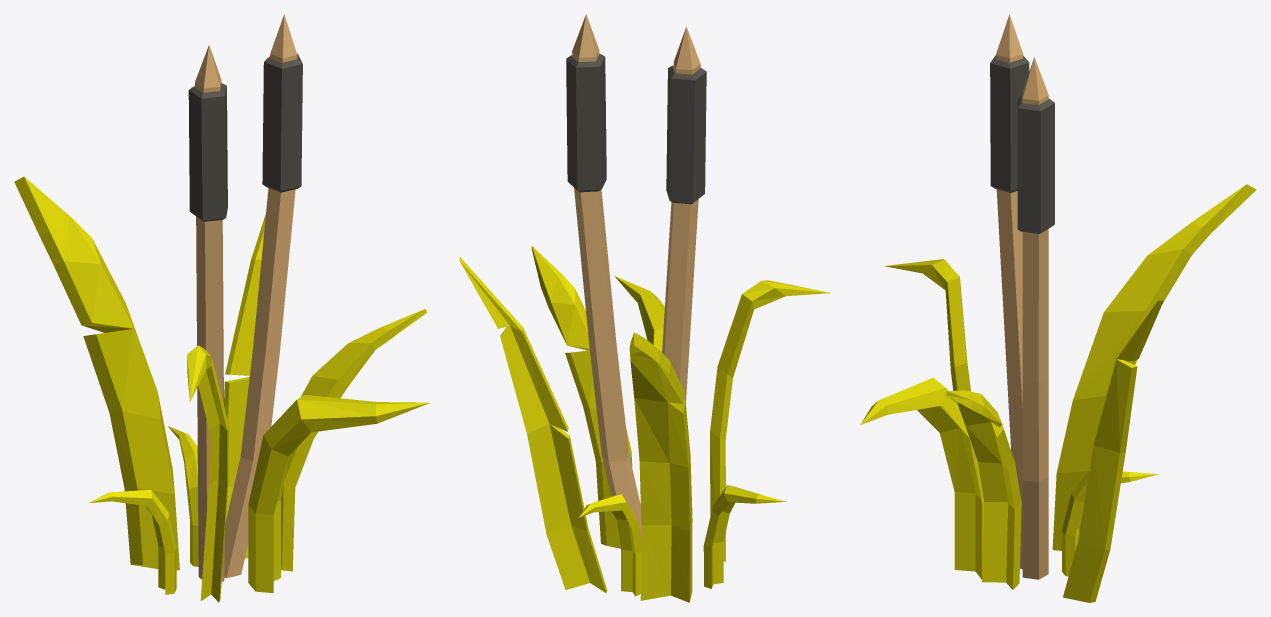
The model's file is Plant_01.fbx.
3 views of the same model, side by side, from view 1: azimuth 30°, elevation 25°; view 2: azimuth 150°, elevation 25°; view 3: azimuth 270°, elevation 25° (orthographic).
Parts seen in each view (by area): view 1: Plant_01; view 2: Plant_01; view 3: Plant_01.
Boxes of the visible parts, bbox=[...] form: Plant_01: bbox=[14, 14, 429, 602]; Plant_01: bbox=[459, 14, 830, 602]; Plant_01: bbox=[860, 14, 1256, 602].
Bounding box in the file's own units: 70.47 × 125 × 81.55.
